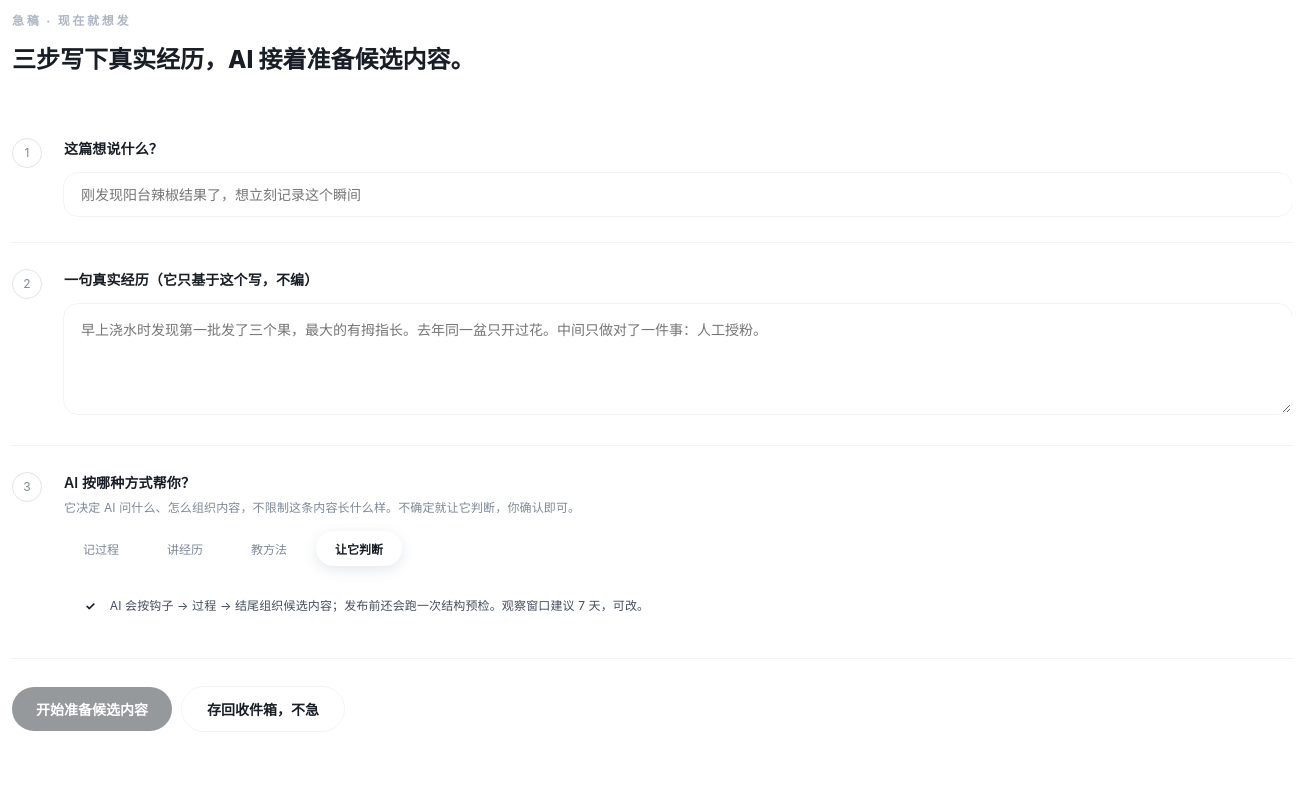
Scenario: UrgentPage › disables submit until title and experience present
Expected: the button "开始准备候选内容" is disabled, [12, 687, 172, 731]
Type "t" into the field named "这篇想说什么？".
click(678, 195); type("t")  # box [64, 173, 1292, 216]
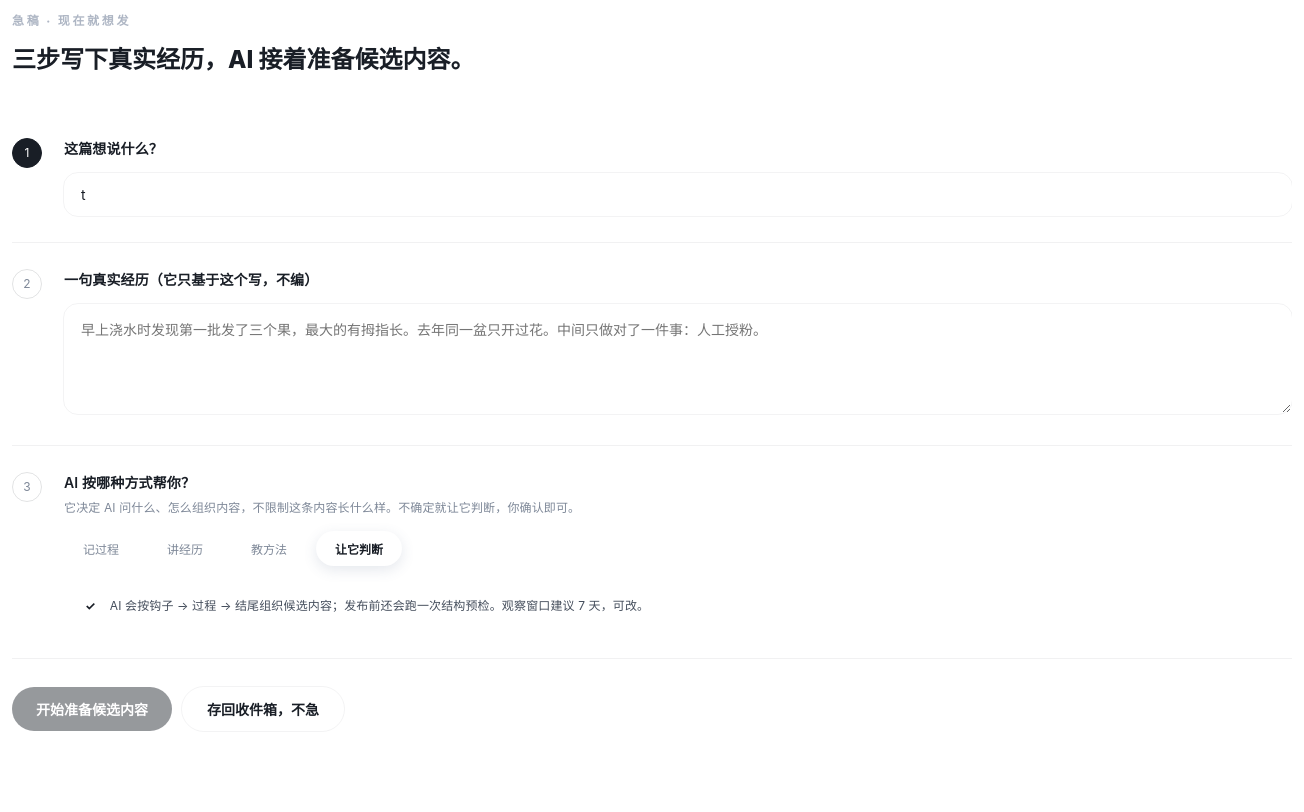
Type "e" into the text box named "一句真实经历（它只基于这个写，不编）".
click(678, 359); type("e")  # box [64, 304, 1292, 414]
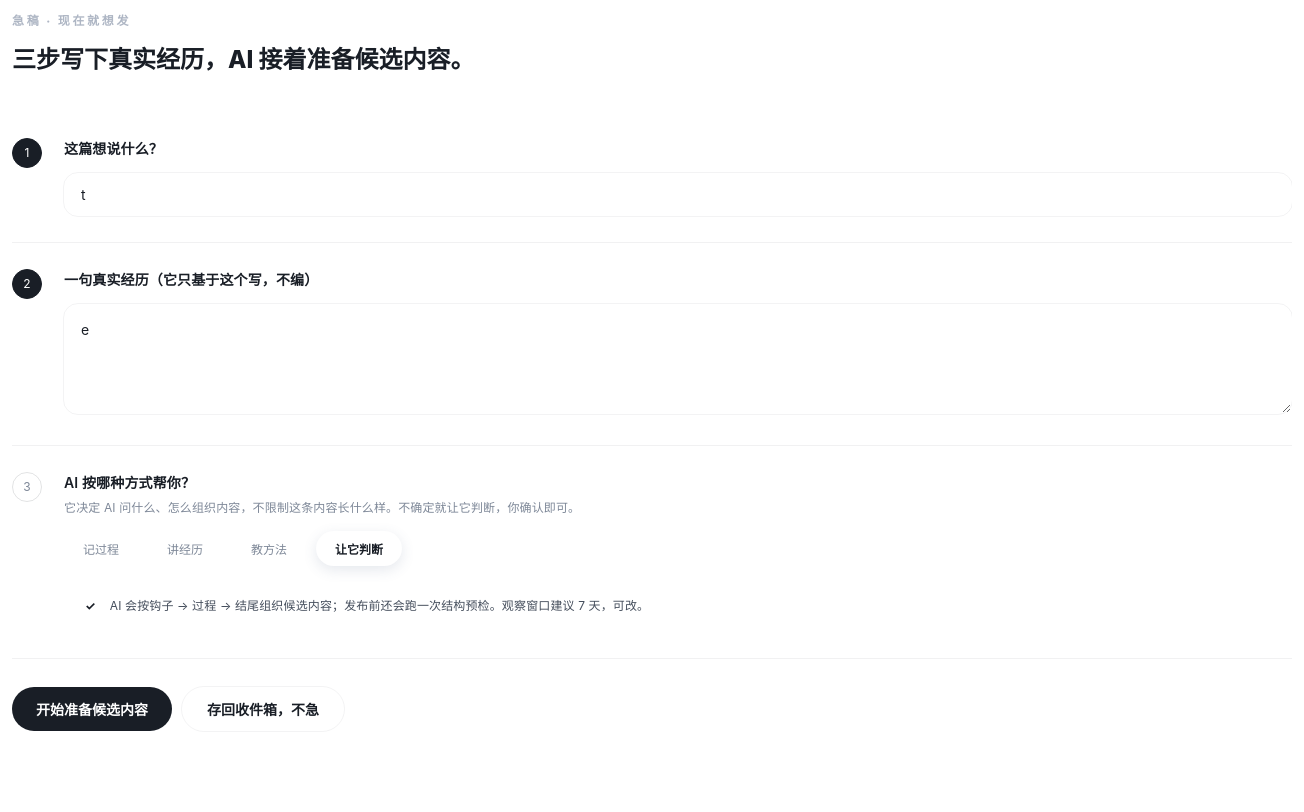
Now the button "开始准备候选内容" is enabled, box [12, 687, 172, 731]
